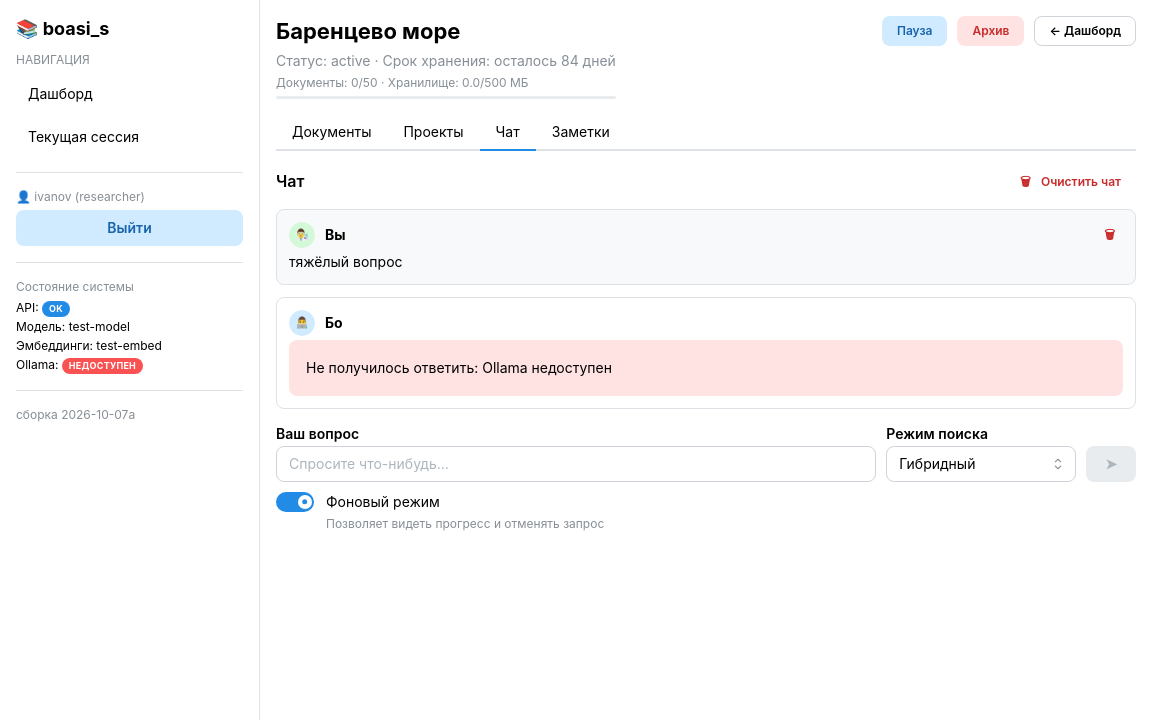
Test case: чат: фоновая задача › ошибка задачи показывает вопрос с ошибкой и кнопку убрать
Expected: the text "тяжёлый вопрос" is shown, [289,253,402,270]
Expected: the text "Не получилось ответить: Ollama недоступен" is shown, [306,359,612,376]
Click the button named "убрать вопрос и ошибку": {"x": 1110, "y": 235} [1096,224,1123,246]
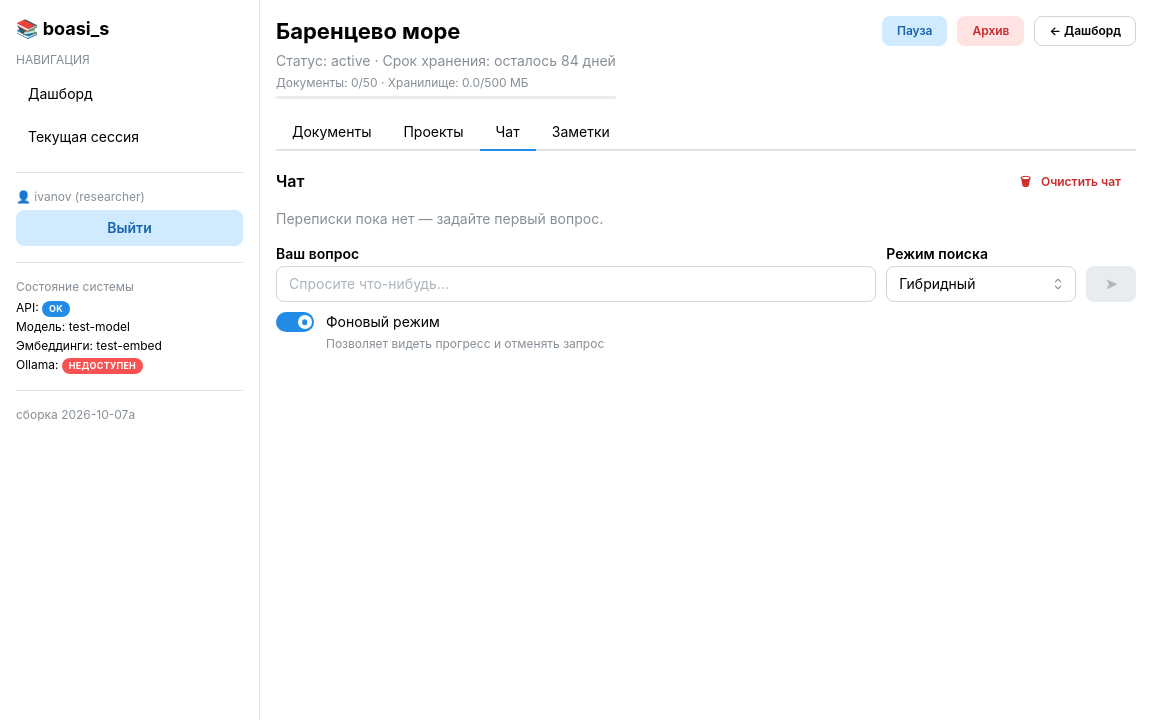
Expected: the text "Не получилось ответить" is gone
